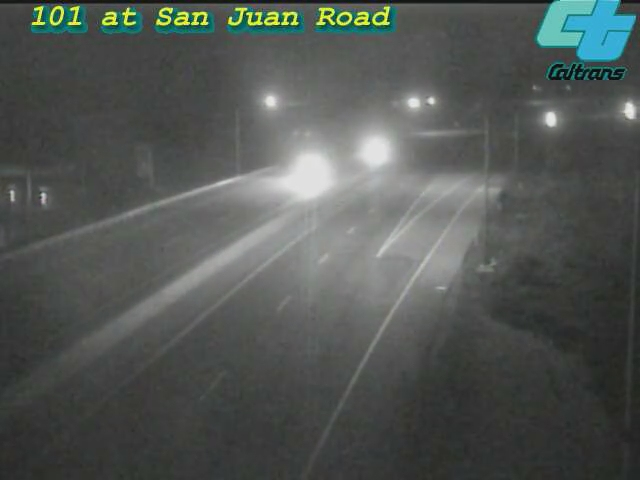vehicle: (274, 125, 354, 205), (355, 123, 405, 173), (525, 95, 575, 145), (600, 86, 640, 136)
